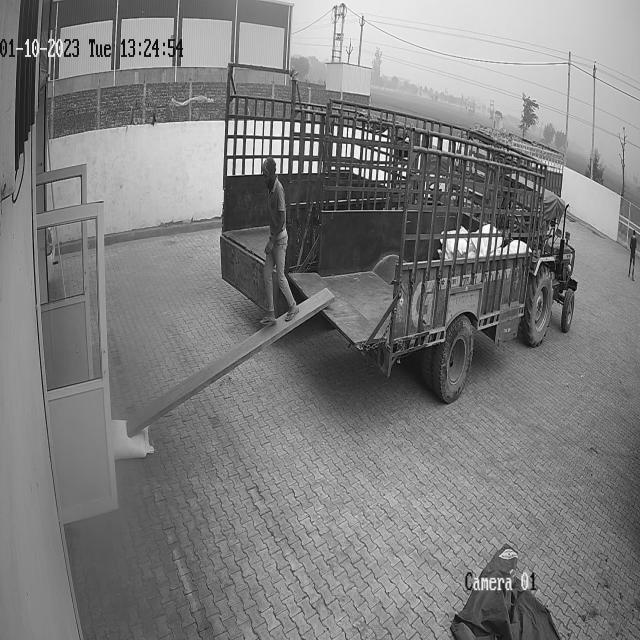sack: (112, 420, 154, 460)
